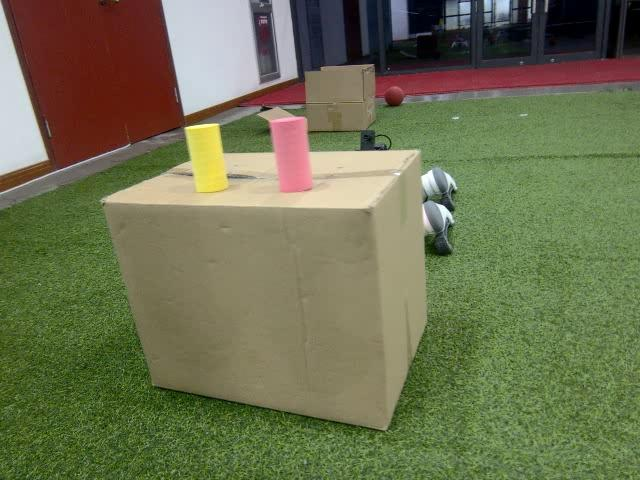red_ball: (384, 85, 406, 106)
red_cylinder: (270, 113, 317, 192)
yellow_cylinder: (182, 122, 231, 197)
